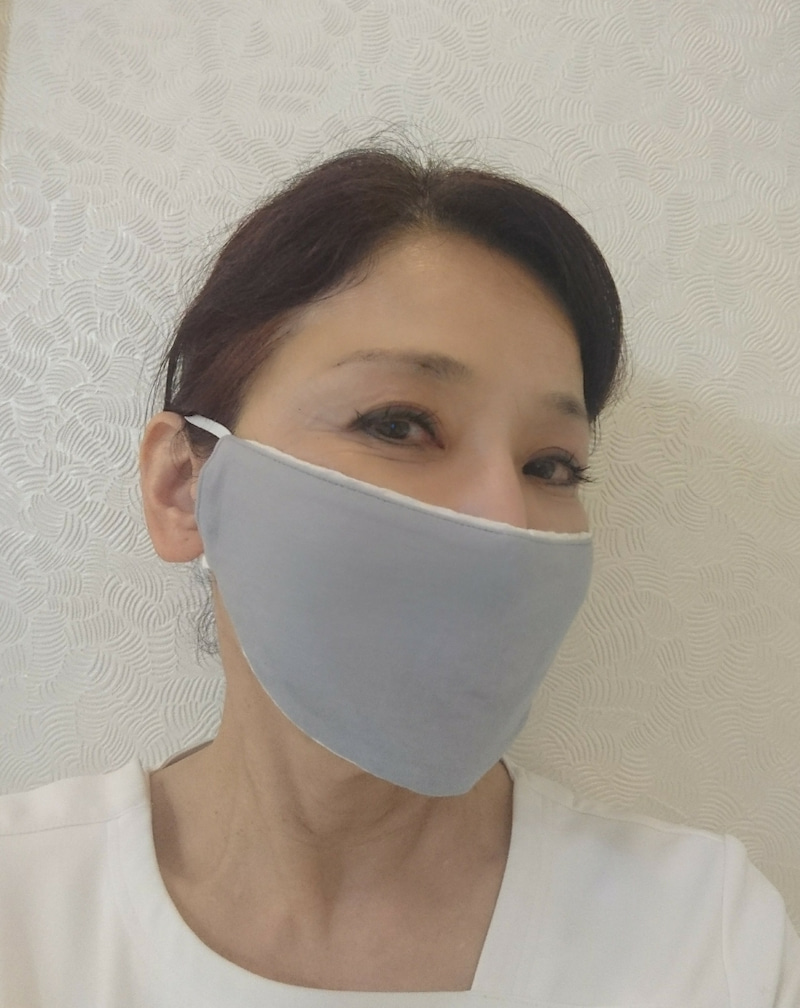mask: (197, 443, 595, 794)
